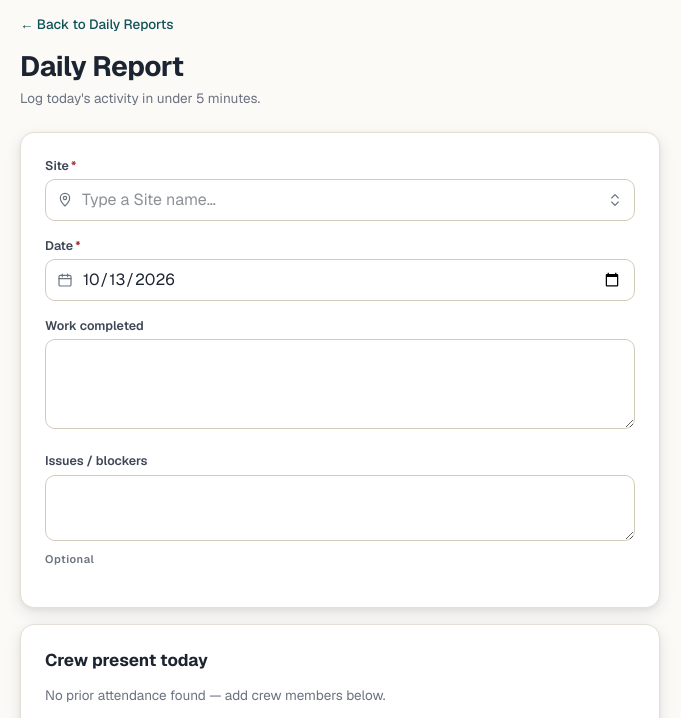
Test: NewDsrPage › resumes a saved draft on mount, pre-filling the form and offering Finalize + Discard
The image size is (681, 718).
Type "NH" into the dropdown labelled "Site" at (340, 200), box [45,179,635,221]
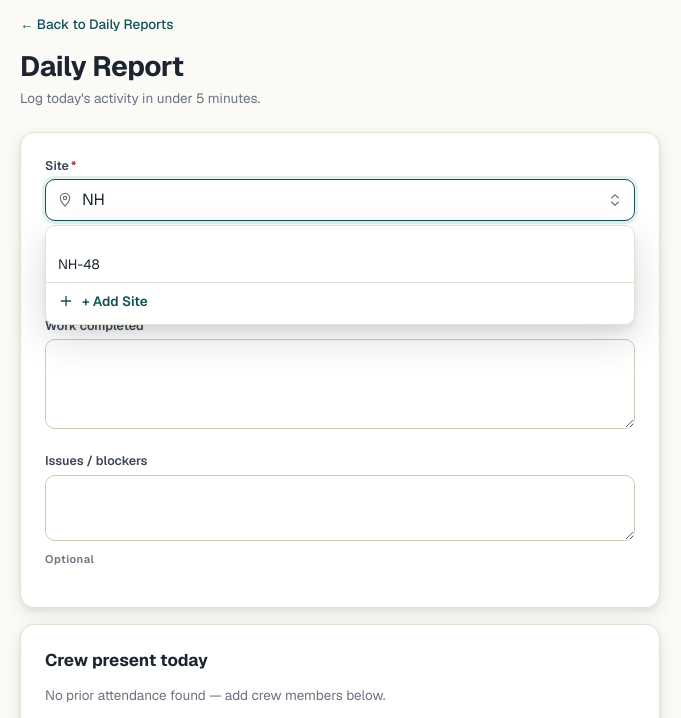
Click the option "NH-48" at (79, 264), box [58,255,100,273]
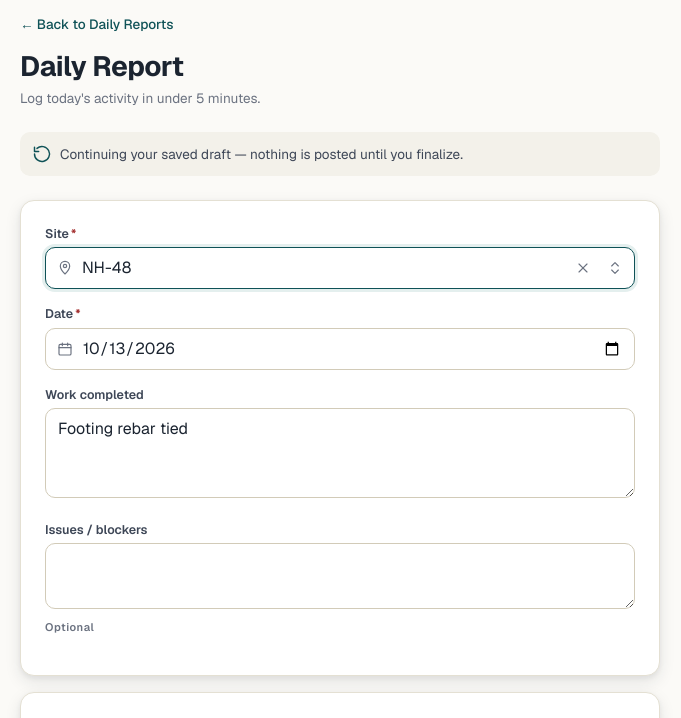
Now the text box labelled "Work completed" holds "Footing rebar tied", box [45,408,635,498]
Now the text "Continuing your saved draft — nothing is posted until you finalize." is shown, box [20,132,660,176]
